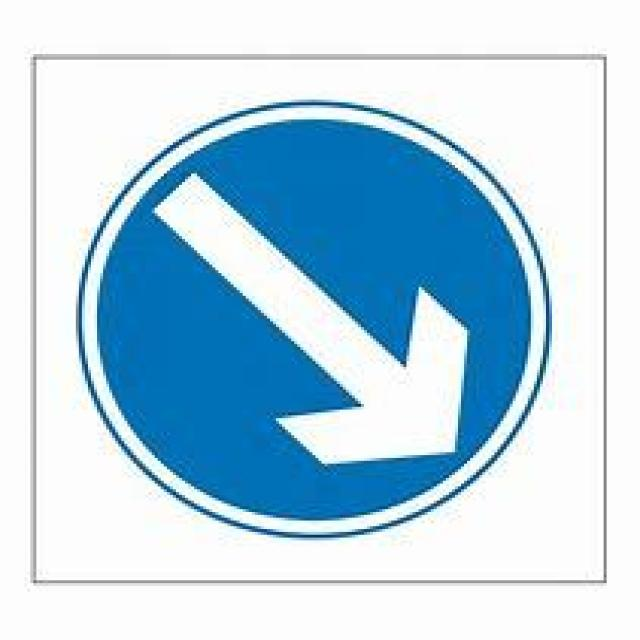COMPULSARY_KEEP_RIGHT: (84, 99, 544, 540)
